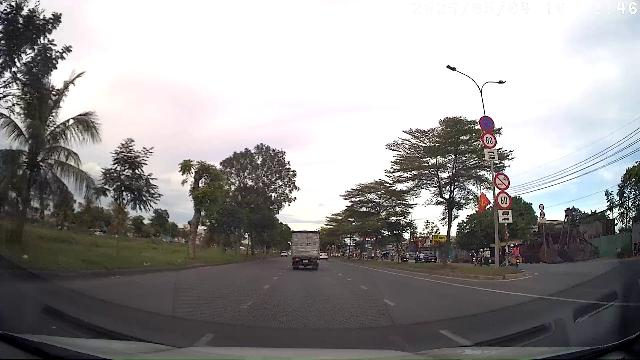127-toc-do-toi-da-60: (496, 191, 512, 209)
127-toc-do-toi-da-80: (482, 132, 496, 148)
130-cam-dung-va-do-xe: (479, 115, 495, 131)
